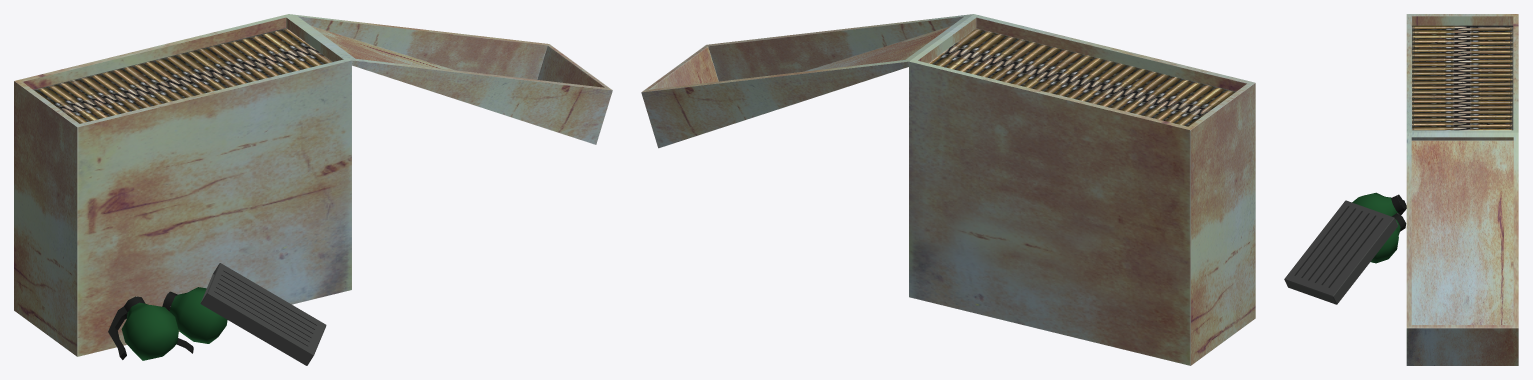
The model's file is AmmoPickUp.fbx.
3 renders of one model, left to right at view 1: azimuth 30°, elevation 25°; view 2: azimuth 150°, elevation 25°; view 3: azimuth 270°, elevation 25°, orthographic. The views are drawn at different scales.
Visible parts, largest first — view 1: AmmoPickUp; view 2: AmmoPickUp; view 3: AmmoPickUp.
Part boxes in pixels (x1,y1,x2,y2): AmmoPickUp: (14, 14, 612, 365); AmmoPickUp: (641, 14, 1255, 365); AmmoPickUp: (1284, 14, 1518, 365).
Bounding box in the file's own units: 2.44 × 1.01 × 1.05.
Materials: 1 (1 with a texture image).
